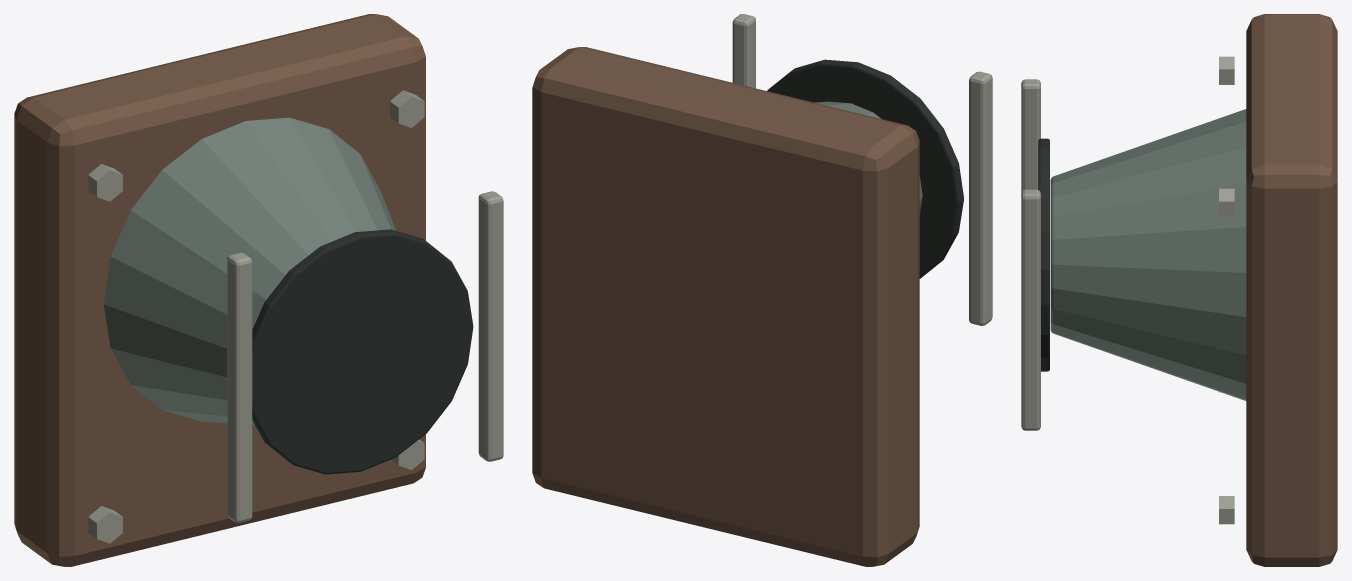
Rendered from alarm.glb.
The picture shows the model from 3 angles, left to right: view 1: azimuth 30°, elevation 25°; view 2: azimuth 150°, elevation 25°; view 3: azimuth 270°, elevation 25°; orthographic projection. The views are drawn at different scales.
Visible parts, largest first — view 1: alarm; view 2: alarm; view 3: alarm.
Part boxes in pixels (x1=…): alarm: x1=14, y1=14, x2=503, y2=566; alarm: x1=532, y1=14, x2=992, y2=566; alarm: x1=1021, y1=14, x2=1337, y2=566.
Size of the model in its own units: 0.3 by 0.34 by 0.2425.
